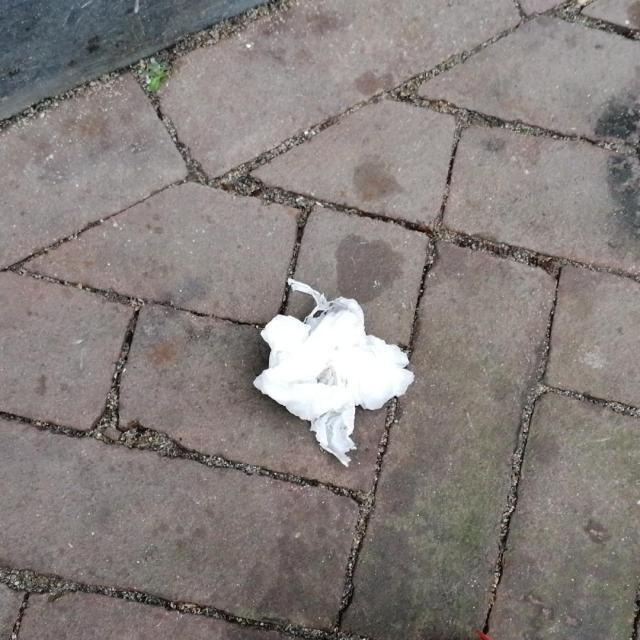Paper: (250, 275, 416, 470)
